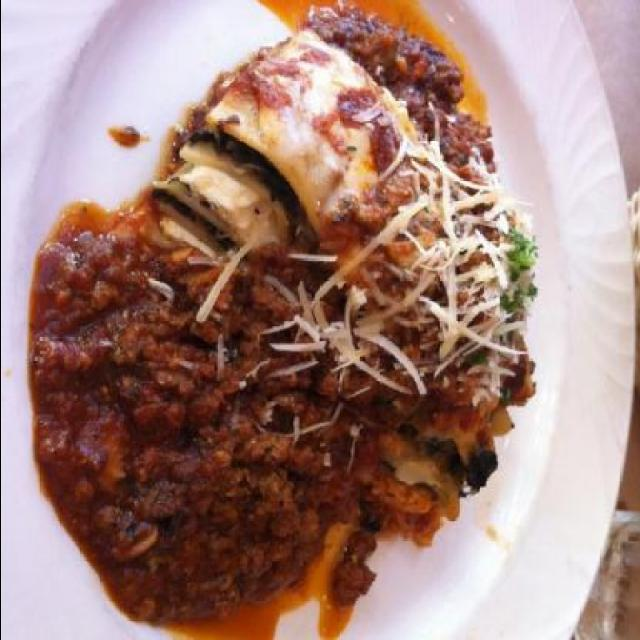Lasagna: (170, 43, 430, 374)
